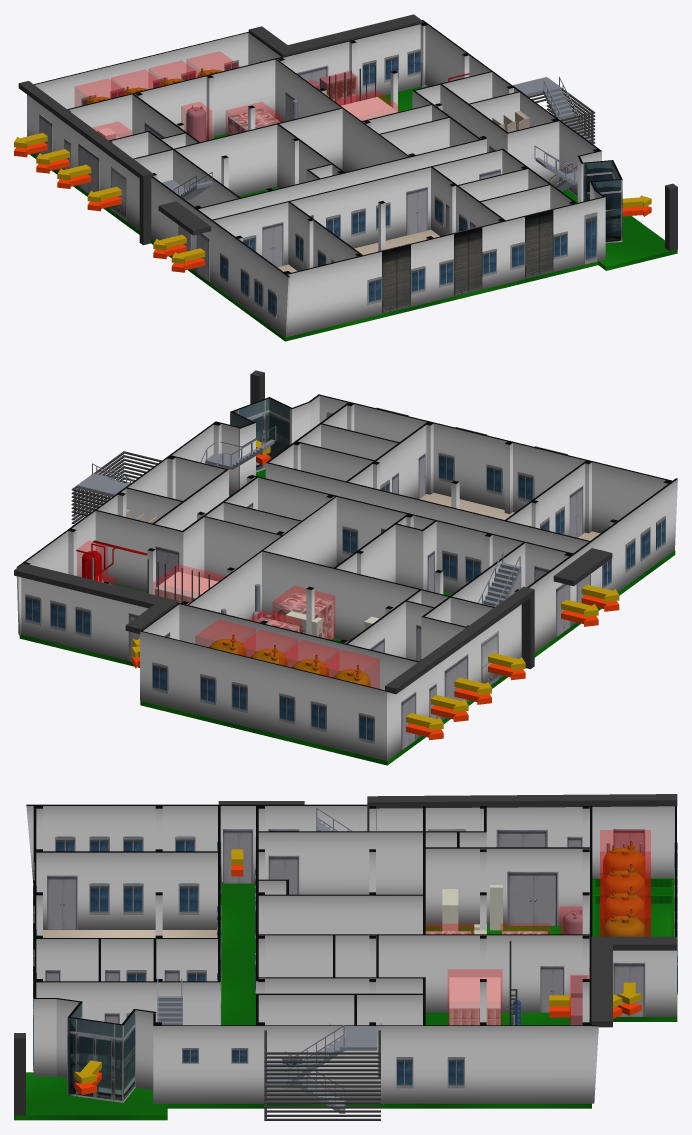
Rendered from soulbrain_T3-7-1F.glb.
The picture shows the model from 3 angles, top to bottom: view 1: azimuth 30°, elevation 25°; view 2: azimuth 150°, elevation 25°; view 3: azimuth 270°, elevation 25°; orthographic projection. The views are drawn at different scales.
Visible parts, largest first — view 1: T3-7-1F, Box500, Box542, Box934, Line011, Box941, Box488, Group307, LTypeStair002, equipment-T3-7-1F-011, equipment-T3-7-1F-007, Box931 (+7 smaller); view 2: T3-7-1F, Box500, Box542, Box934, Box488, Line011, Group307, LTypeStair002, Box931, equipment-T3-7-1F-008, equipment-T3-7-1F-001, equipment-T3-7-1F-004 (+7 smaller); view 3: T3-7-1F, Line011, Box542, Box934, Group307, Box500, Box488, Box931, LTypeStair002, equipment-T3-7-1F-011, equipment-T3-7-1F-003, Box2476 (+5 smaller).
Part boxes in pixels (x1,y1,x2,y2): T3-7-1F: (27, 20, 605, 337); Box500: (81, 49, 597, 318); Box542: (39, 60, 622, 281); Box934: (18, 14, 677, 251); Line011: (30, 86, 677, 341); Box941: (381, 209, 553, 313); Box488: (68, 23, 599, 273); Group307: (85, 61, 423, 142); LTypeStair002: (162, 76, 591, 200); equipment-T3-7-1F-011: (335, 90, 399, 120); equipment-T3-7-1F-007: (226, 102, 281, 135); Box931: (528, 78, 595, 145); T3-7-1F: (16, 394, 677, 760); Box500: (25, 412, 665, 743); Box542: (128, 397, 590, 750); Box934: (14, 370, 612, 694); Box488: (24, 403, 671, 661); Line011: (19, 469, 675, 765); Group307: (92, 558, 379, 686); LTypeStair002: (77, 426, 520, 606); Box931: (71, 451, 161, 526); equipment-T3-7-1F-008: (272, 586, 334, 639); equipment-T3-7-1F-001: (320, 650, 379, 688); equipment-T3-7-1F-004: (195, 619, 255, 656); T3-7-1F: (26, 804, 676, 1103); Line011: (14, 878, 677, 1120); Box542: (45, 829, 645, 1102); Box934: (14, 794, 677, 1115); Group307: (425, 841, 647, 1025); Box500: (33, 836, 677, 1088); Box488: (36, 806, 589, 1025); Box931: (264, 1030, 380, 1120); LTypeStair002: (157, 807, 377, 1113); equipment-T3-7-1F-011: (448, 969, 502, 1024); equipment-T3-7-1F-003: (600, 875, 650, 935); Box2476: (449, 977, 500, 1025).
Size of the model in its own units: 36.55 by 6.22 by 38.89.
Materials: 45 (32 with a texture image).
